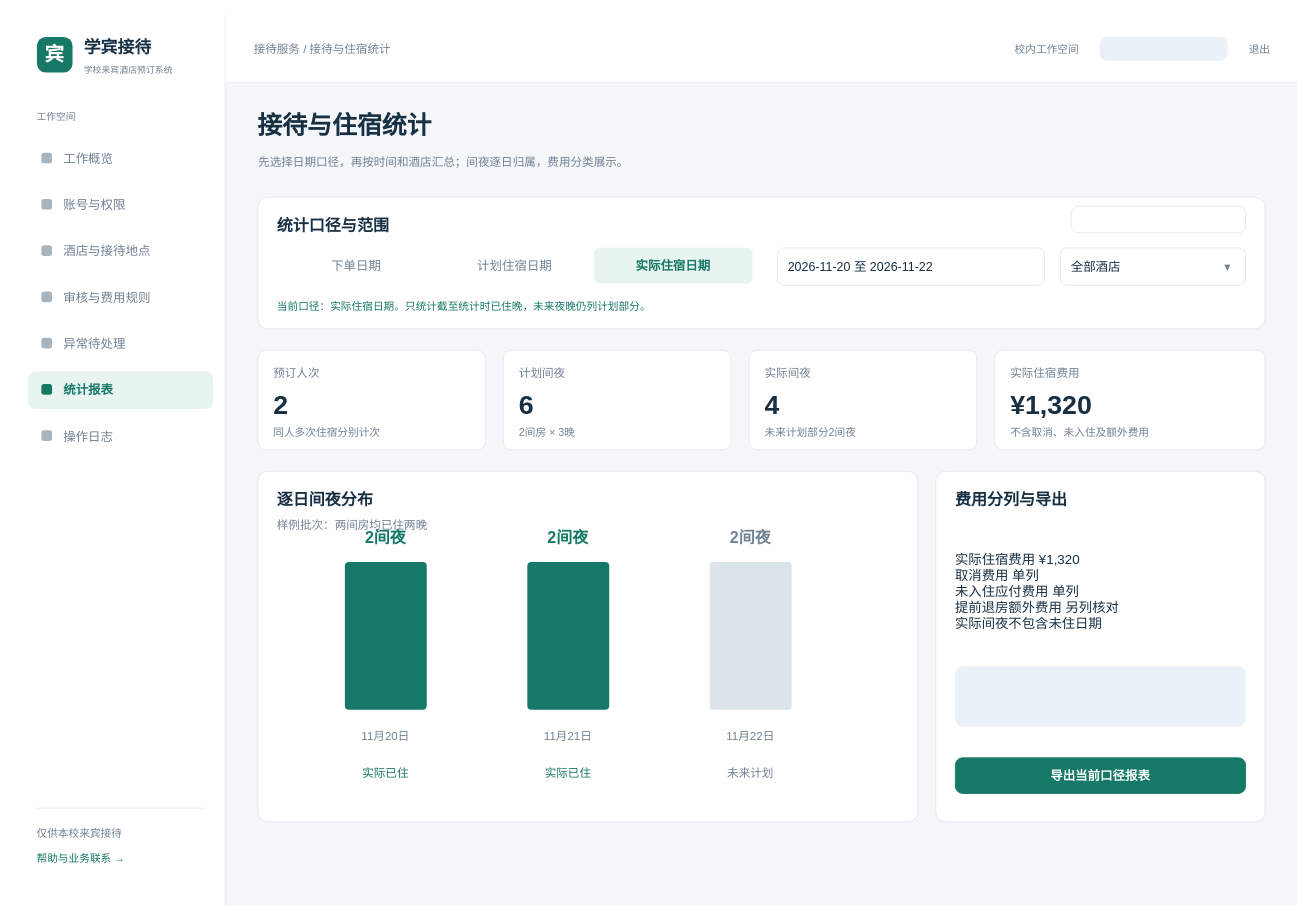
This 1312x920 diagram has some shape labels left out. The box of each missing label's shape, as (x1, y1, x2, y2) in pixels:
停业关闭原单的已住记录仍保留； 按原新单住宿日期分段统计。: (955, 666, 1245, 726)
平台管理员: (1099, 36, 1227, 61)
应用筛选: (1070, 205, 1246, 233)
